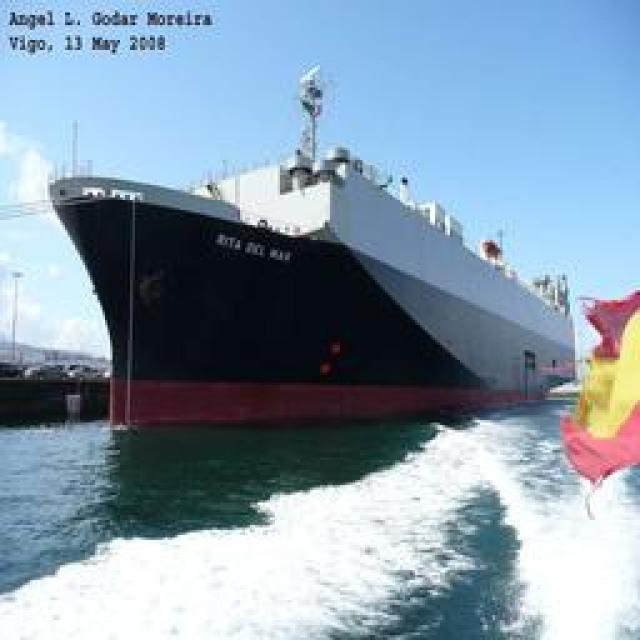ship: (36, 111, 606, 434)
